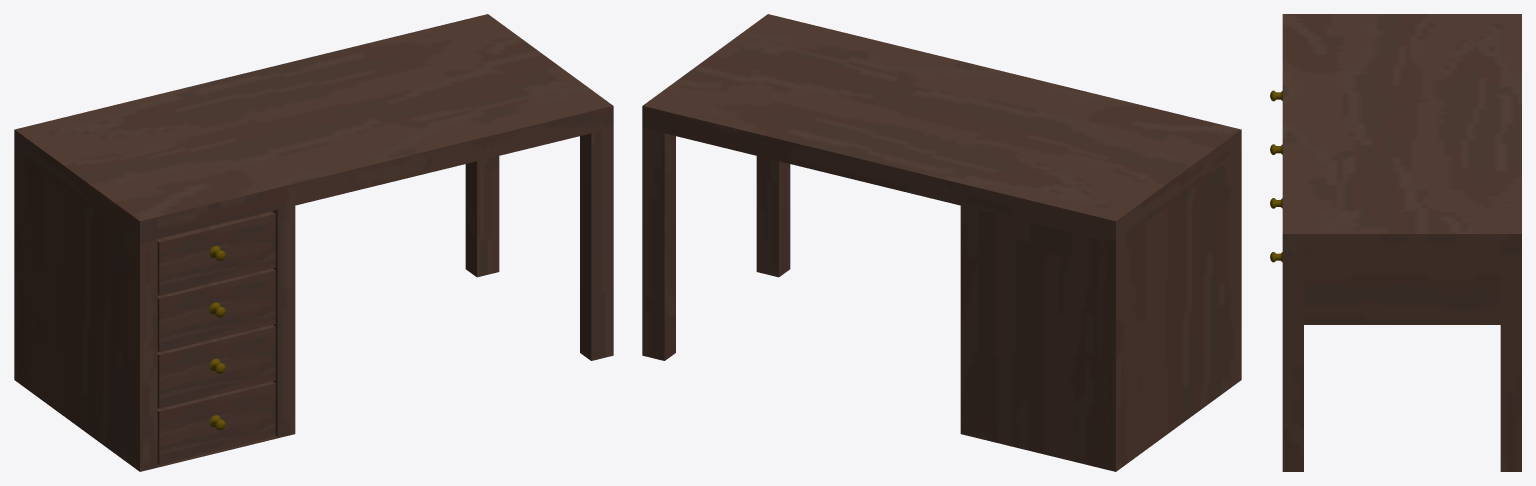
File: Desk.fbx
The picture shows the model from 3 angles, left to right: view 1: azimuth 30°, elevation 25°; view 2: azimuth 150°, elevation 25°; view 3: azimuth 270°, elevation 25°; orthographic projection. The views are drawn at different scales.
Parts seen in each view (by area): view 1: Desk.001, Drawer_1, Drawer_3, Drawer_2, Drawer_4; view 2: Desk.001; view 3: Desk.001.
Boxes of the visible parts, x1,y1,x2,y2 form: Desk.001: (14, 14, 613, 471); Drawer_1: (157, 211, 275, 295); Drawer_3: (157, 325, 275, 408); Drawer_2: (157, 268, 275, 352); Drawer_4: (157, 381, 275, 465); Desk.001: (642, 14, 1241, 471); Desk.001: (1282, 14, 1521, 471).
Bounding box in the file's own units: 147 × 74.59 × 71.3.
Materials: 3 (1 with a texture image).
